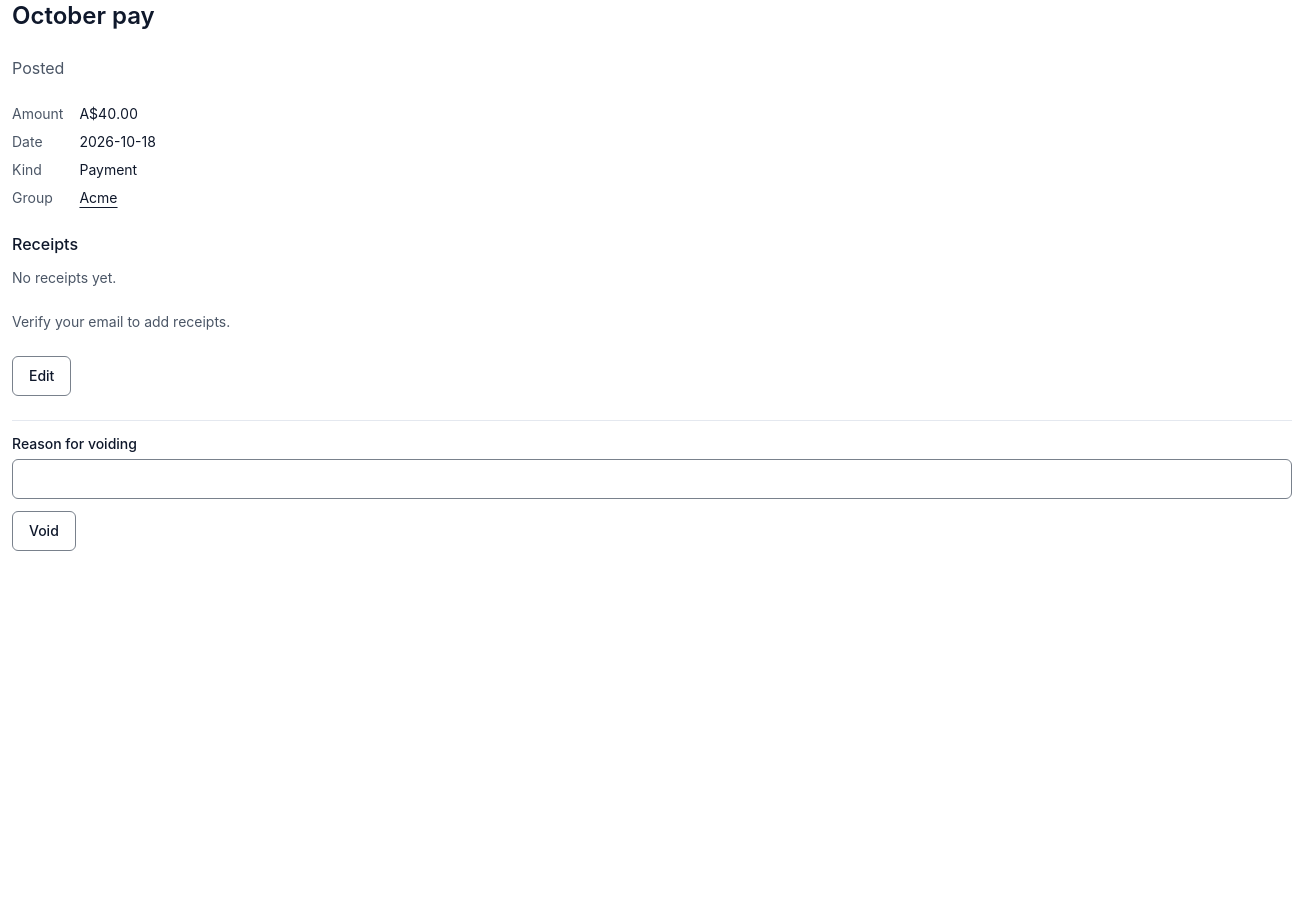
Test: TransactionPage, an employer entry › opens paymentReceived as stored, saves it unchanged, then a new amount
This screenshot has width=1304, height=900.
Click the button "Edit" at (42, 376), box [12,356,71,396]
(page scrolled)
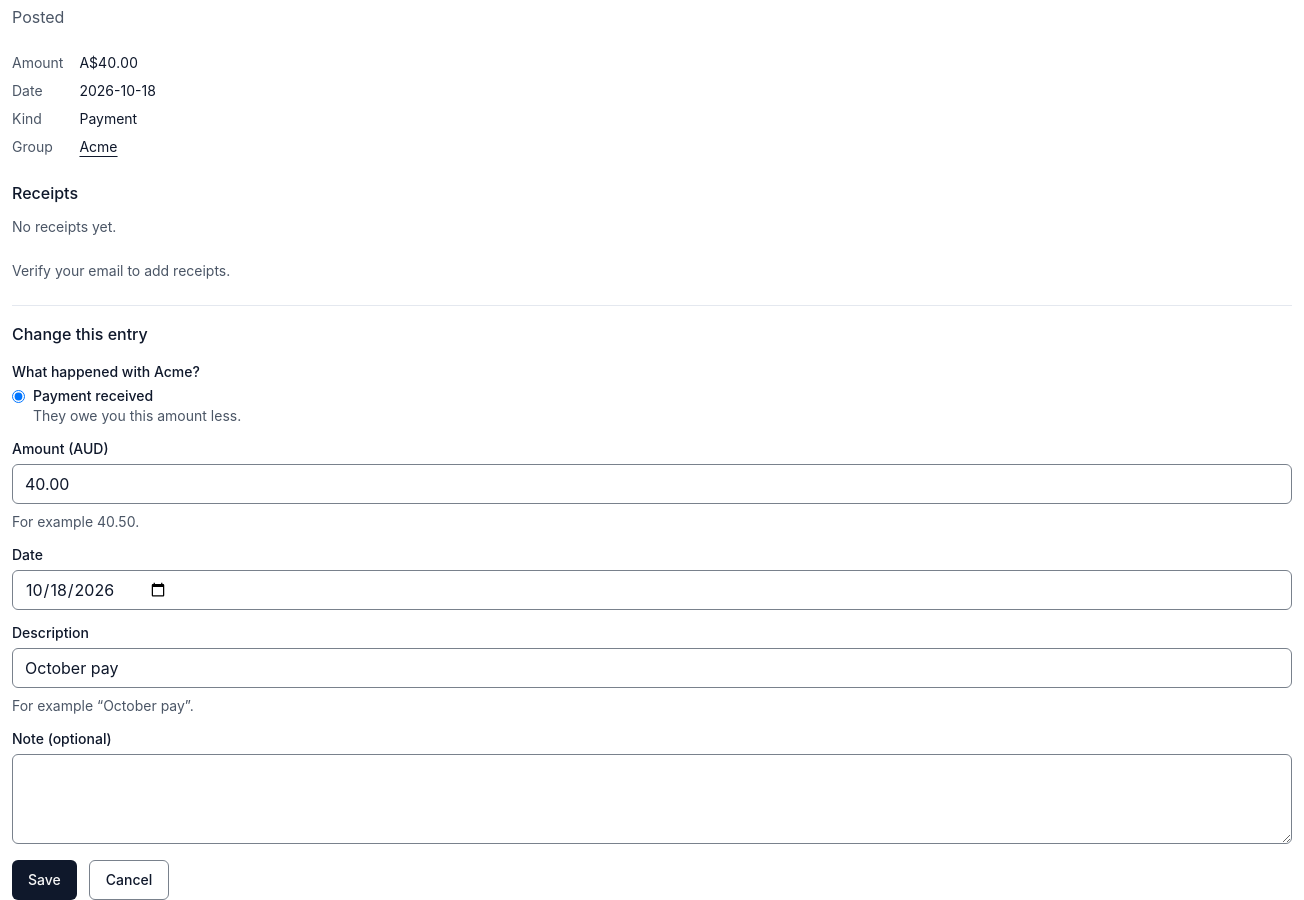
expect the text box labelled "Note (optional)" is empty: met, box [12,754,1292,844]
expect the field labelled "Amount (AUD)" holds "40.00": met, box [12,464,1292,504]
expect the date field labelled "Date" holds "2026-10-18": met, box [12,570,1292,610]
Click the button "Save" at (44, 880), box [12,860,77,899]
(page scrolled)
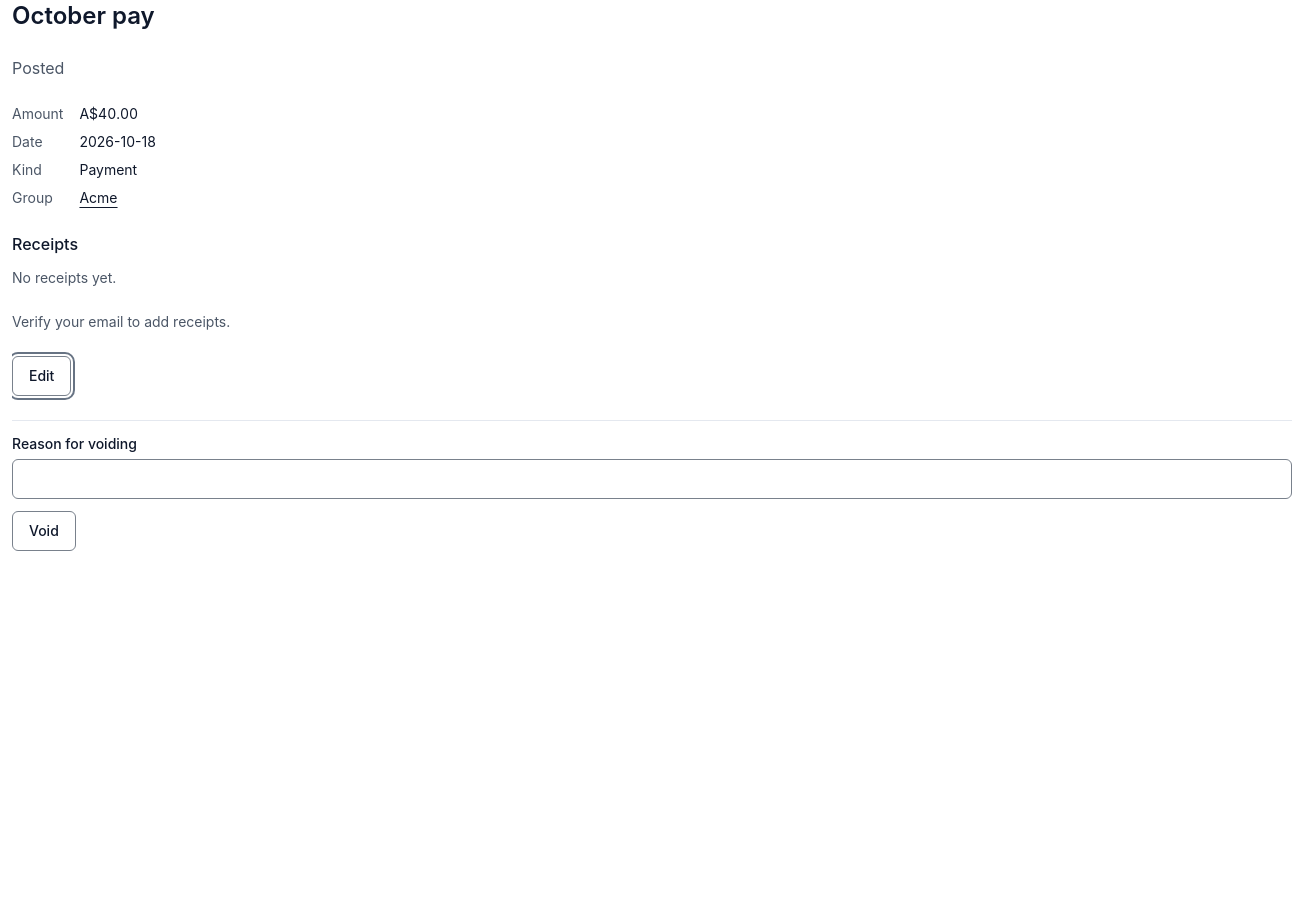
expect the button "Edit" is shown: met
Click the button "Edit" at (42, 376), box [12,356,71,396]
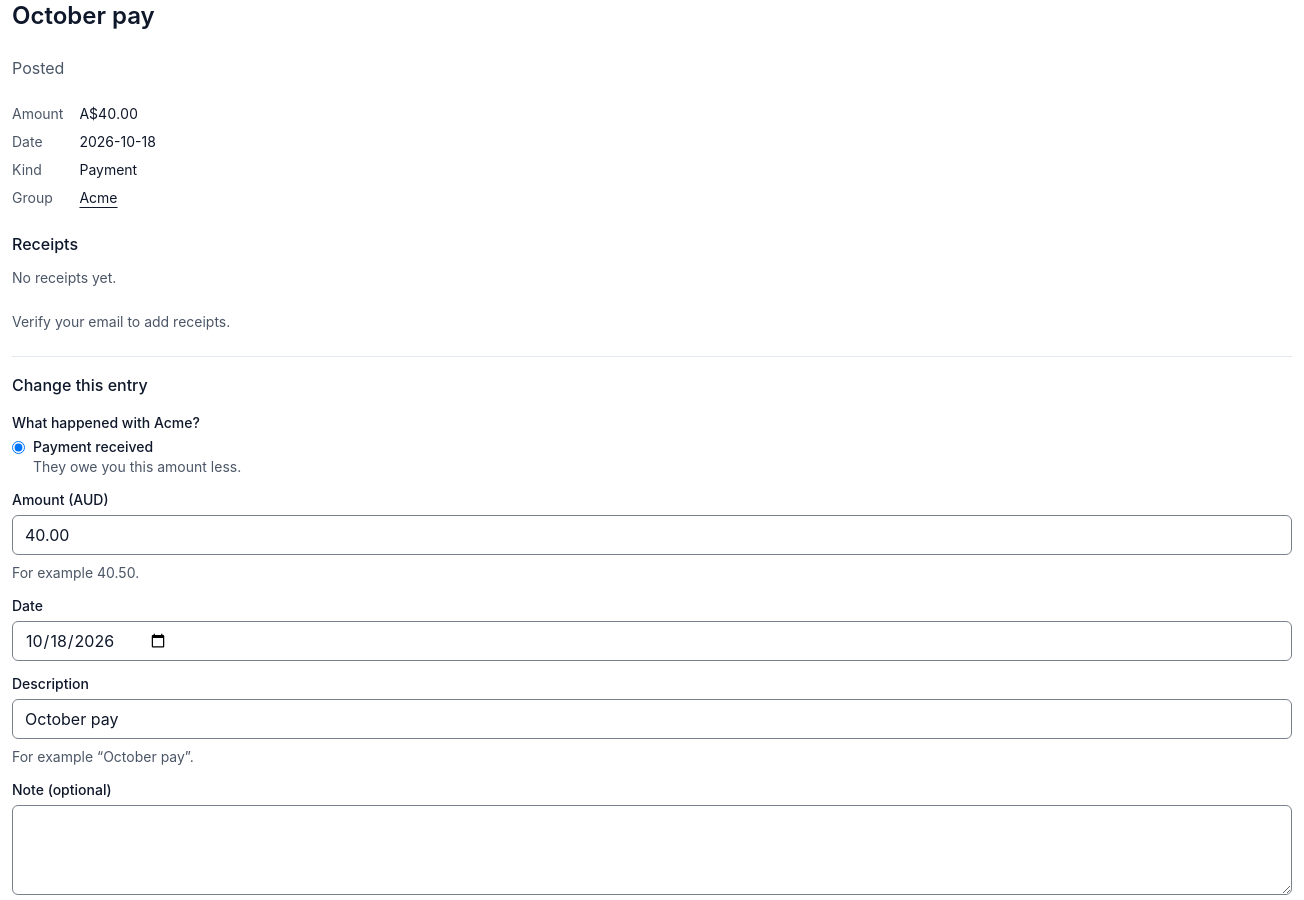
Replace the text in the field labelled "Amount (AUD)" with "55.10" at (652, 535), box [12,515,1292,555]
(page scrolled)
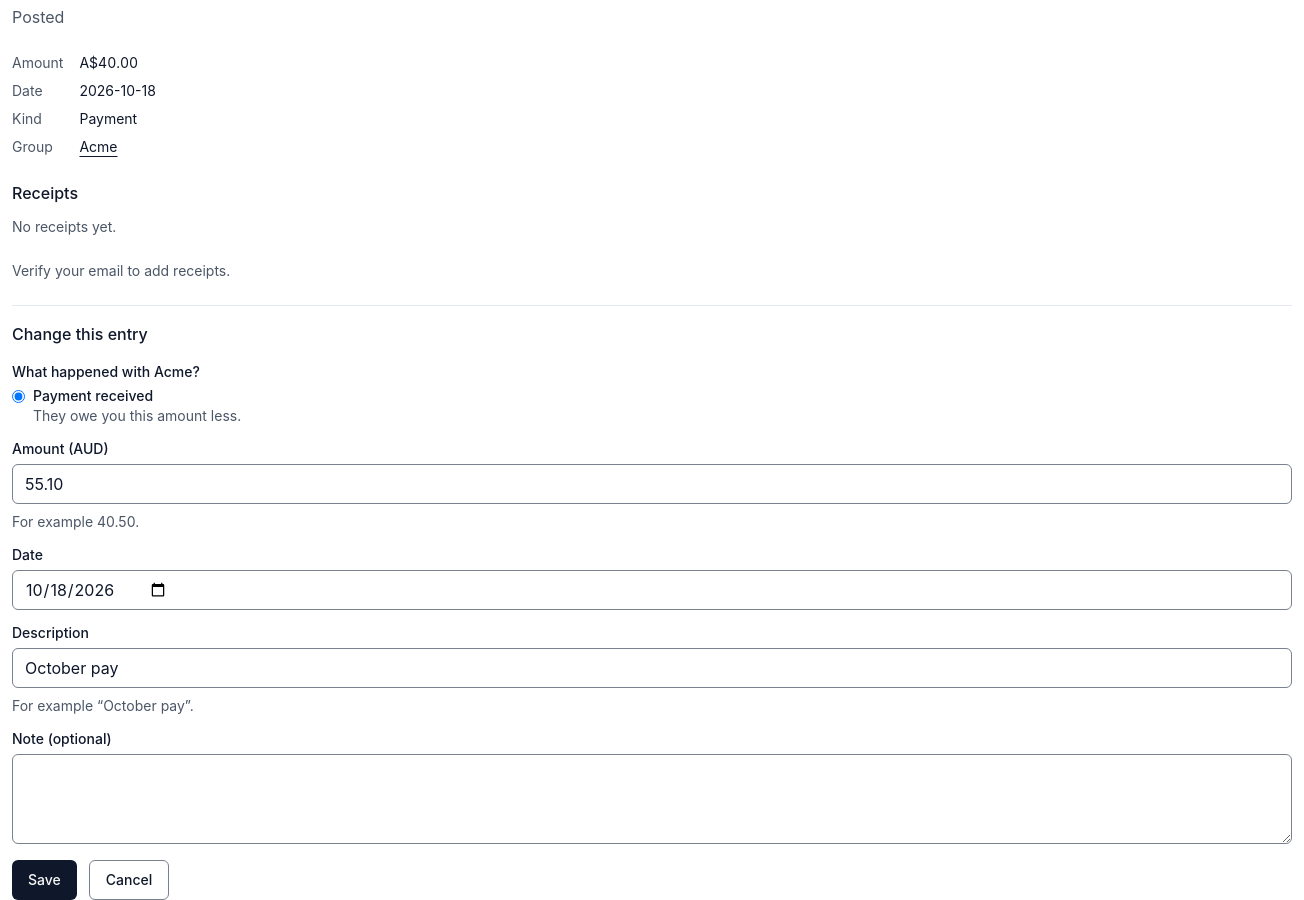
Click the button "Save" at (44, 880), box [12,860,77,899]
(page scrolled)
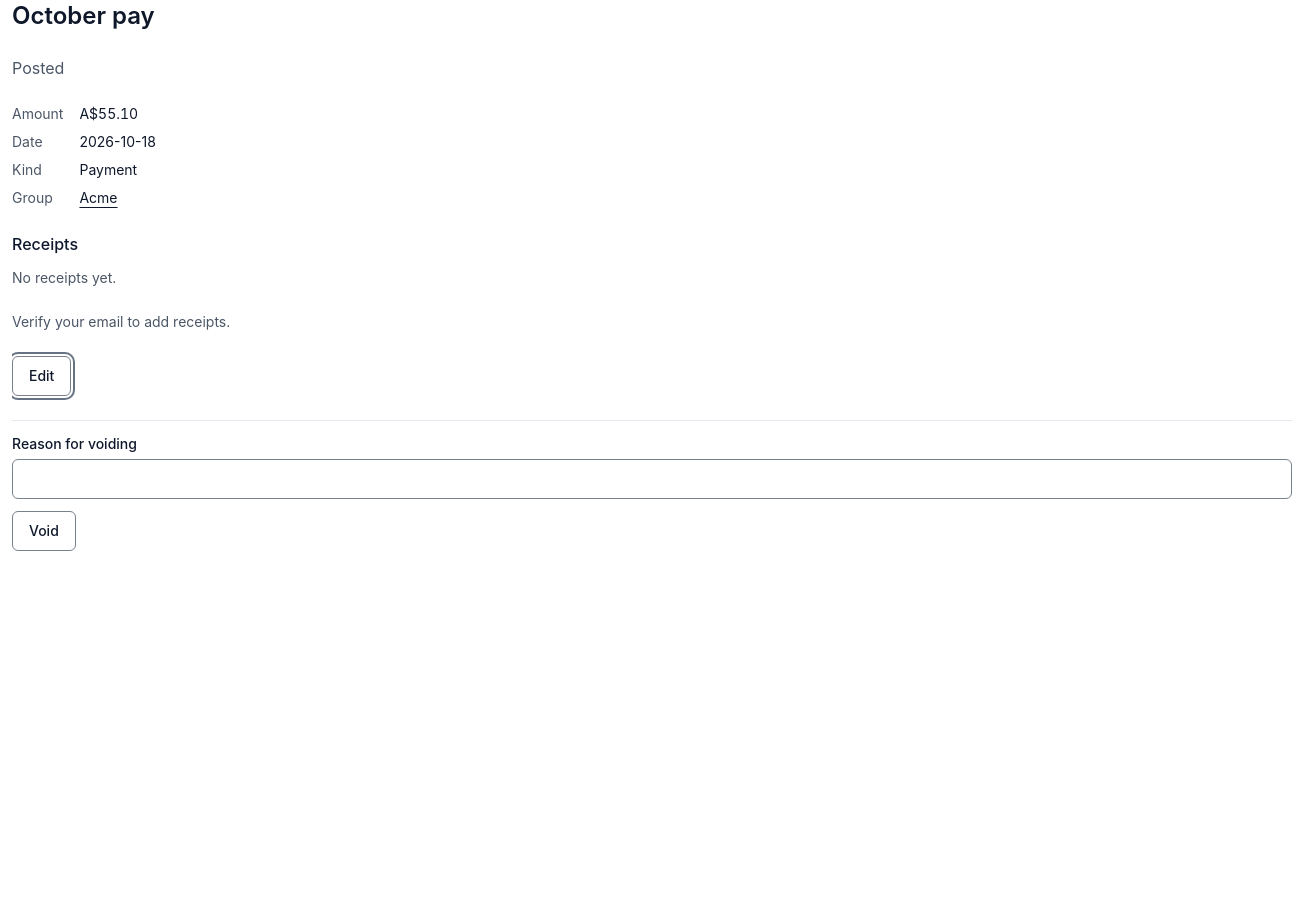
expect the text "A$55.10" is shown: met, box [80,105,138,122]
expect the button "Edit" is shown: met
Click the button "Edit" at (42, 376), box [12,356,71,396]
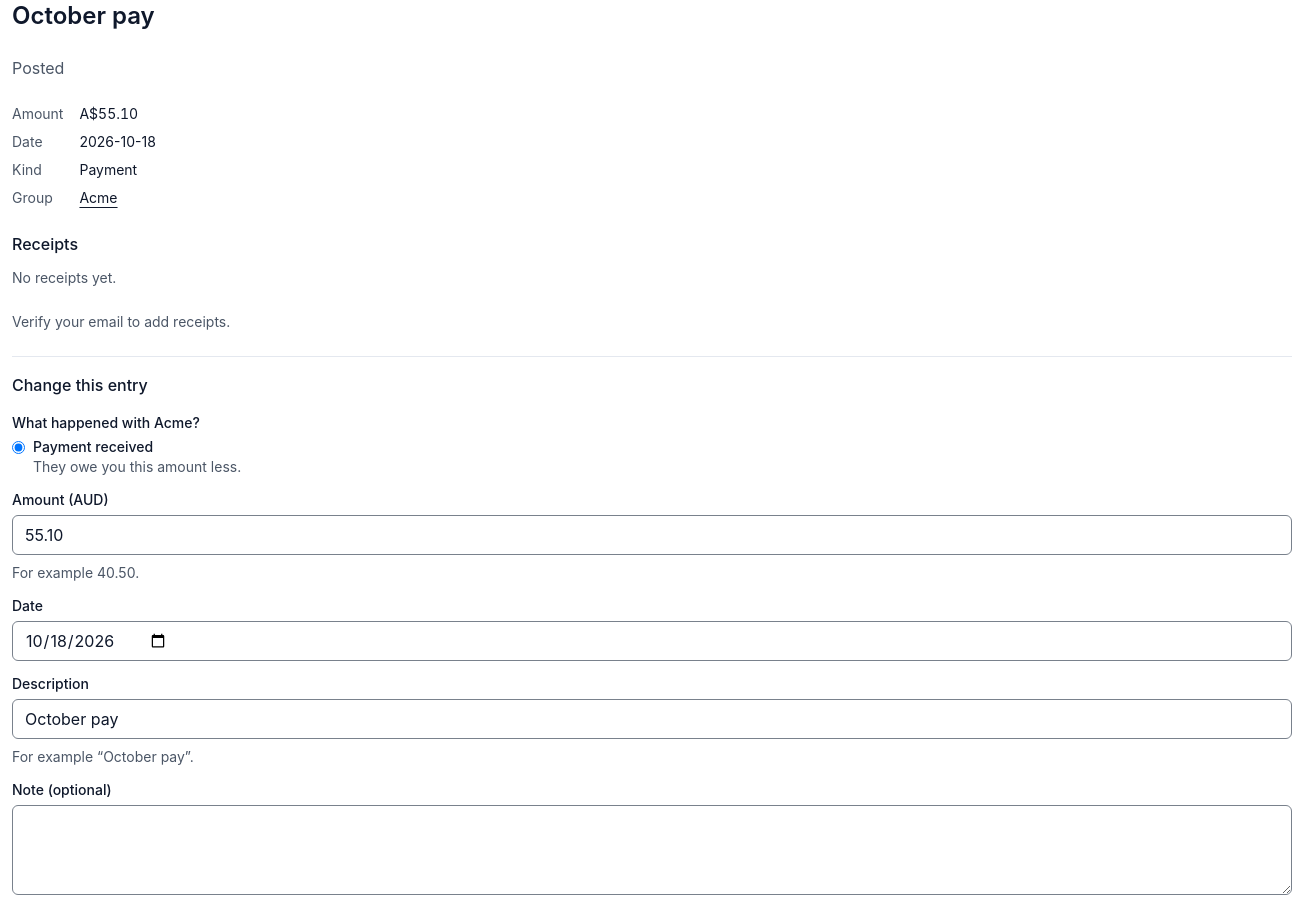
expect the field labelled "Amount (AUD)" holds "55.10": met, box [12,515,1292,555]
